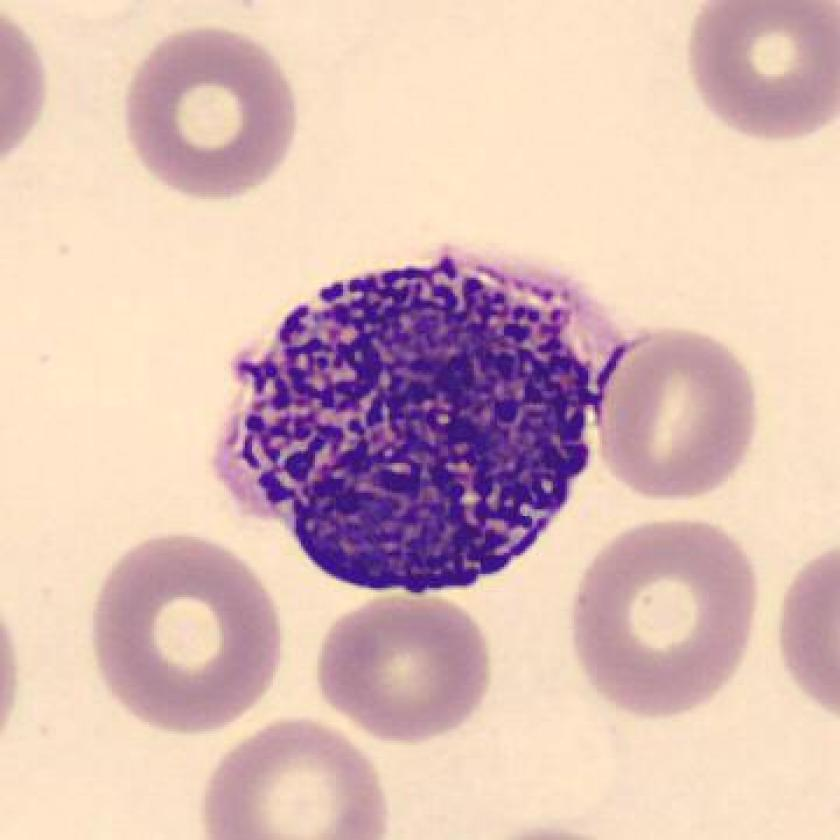basophil: (225, 249, 601, 594)
